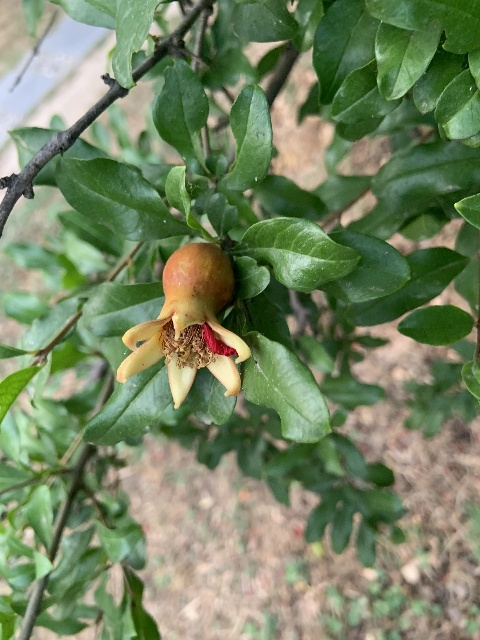early-fruit: (116, 242, 250, 409)
